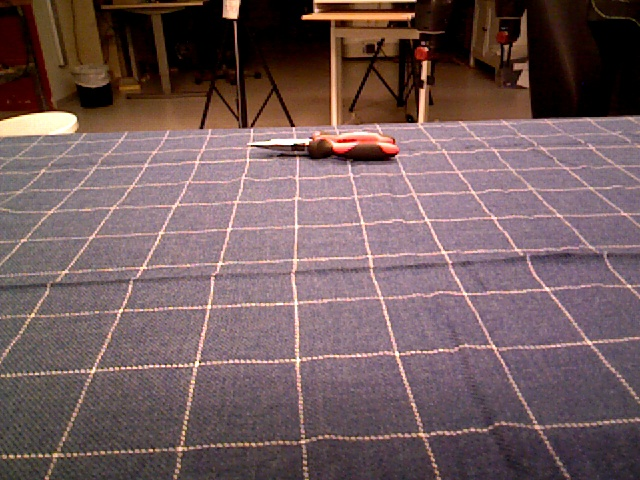plier1: (246, 132, 401, 161)
